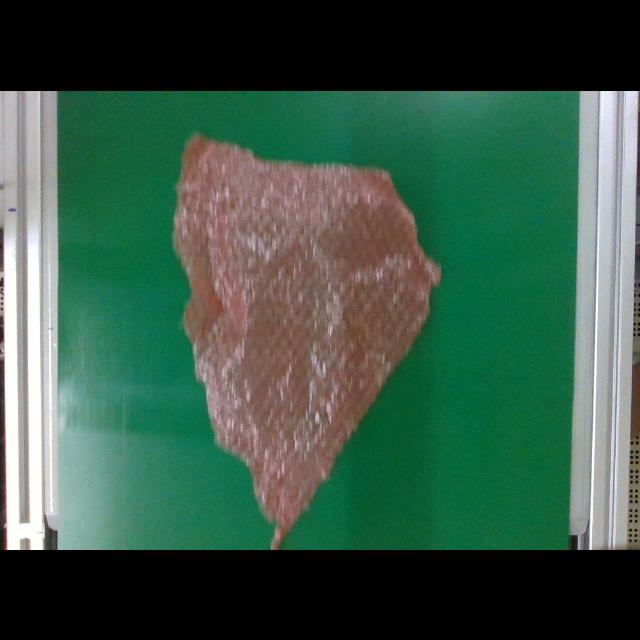scrap_plastic: (162, 130, 442, 550)
